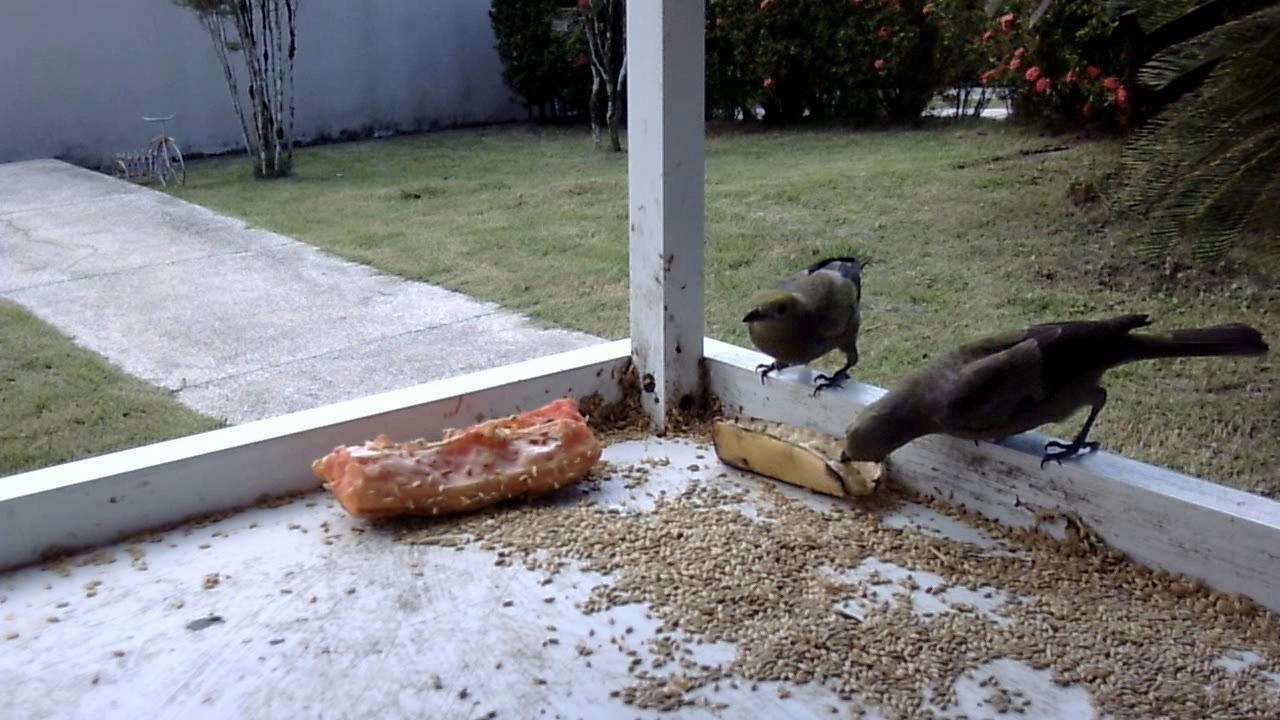sanhaco_do_coqueiro: (827, 307, 1257, 504), (737, 247, 871, 403)
